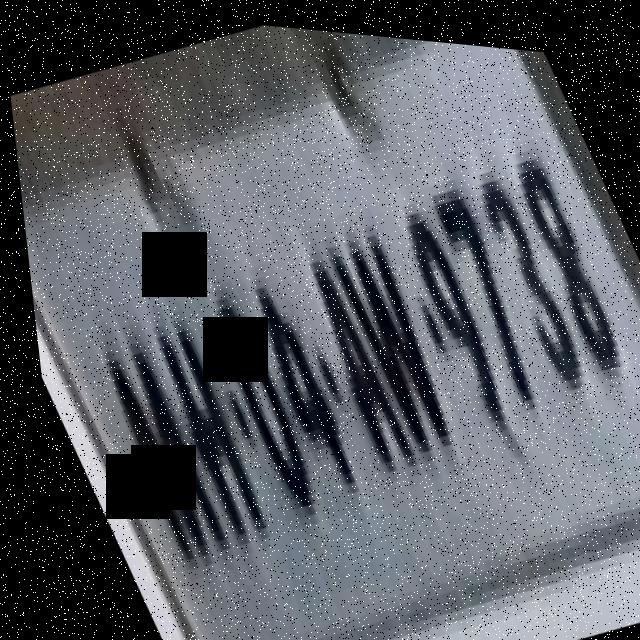0: (175, 274, 329, 529)
3: (459, 152, 599, 397)
4: (222, 253, 373, 514)
7: (416, 164, 564, 424)
8: (489, 117, 640, 377)
9: (374, 176, 530, 452)
A: (273, 223, 423, 486)
H: (121, 291, 282, 563)
M: (70, 318, 235, 584)
W: (305, 196, 478, 476)
